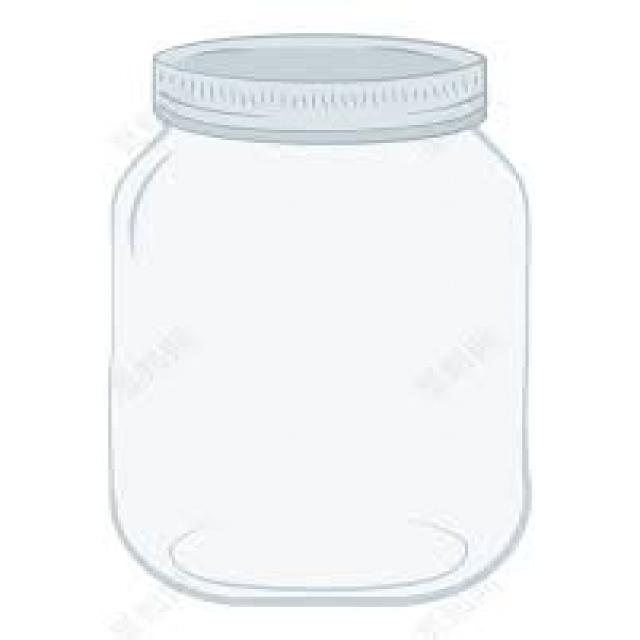Glass-Non-Biodegradable but Recyclable-: (108, 58, 533, 605)
